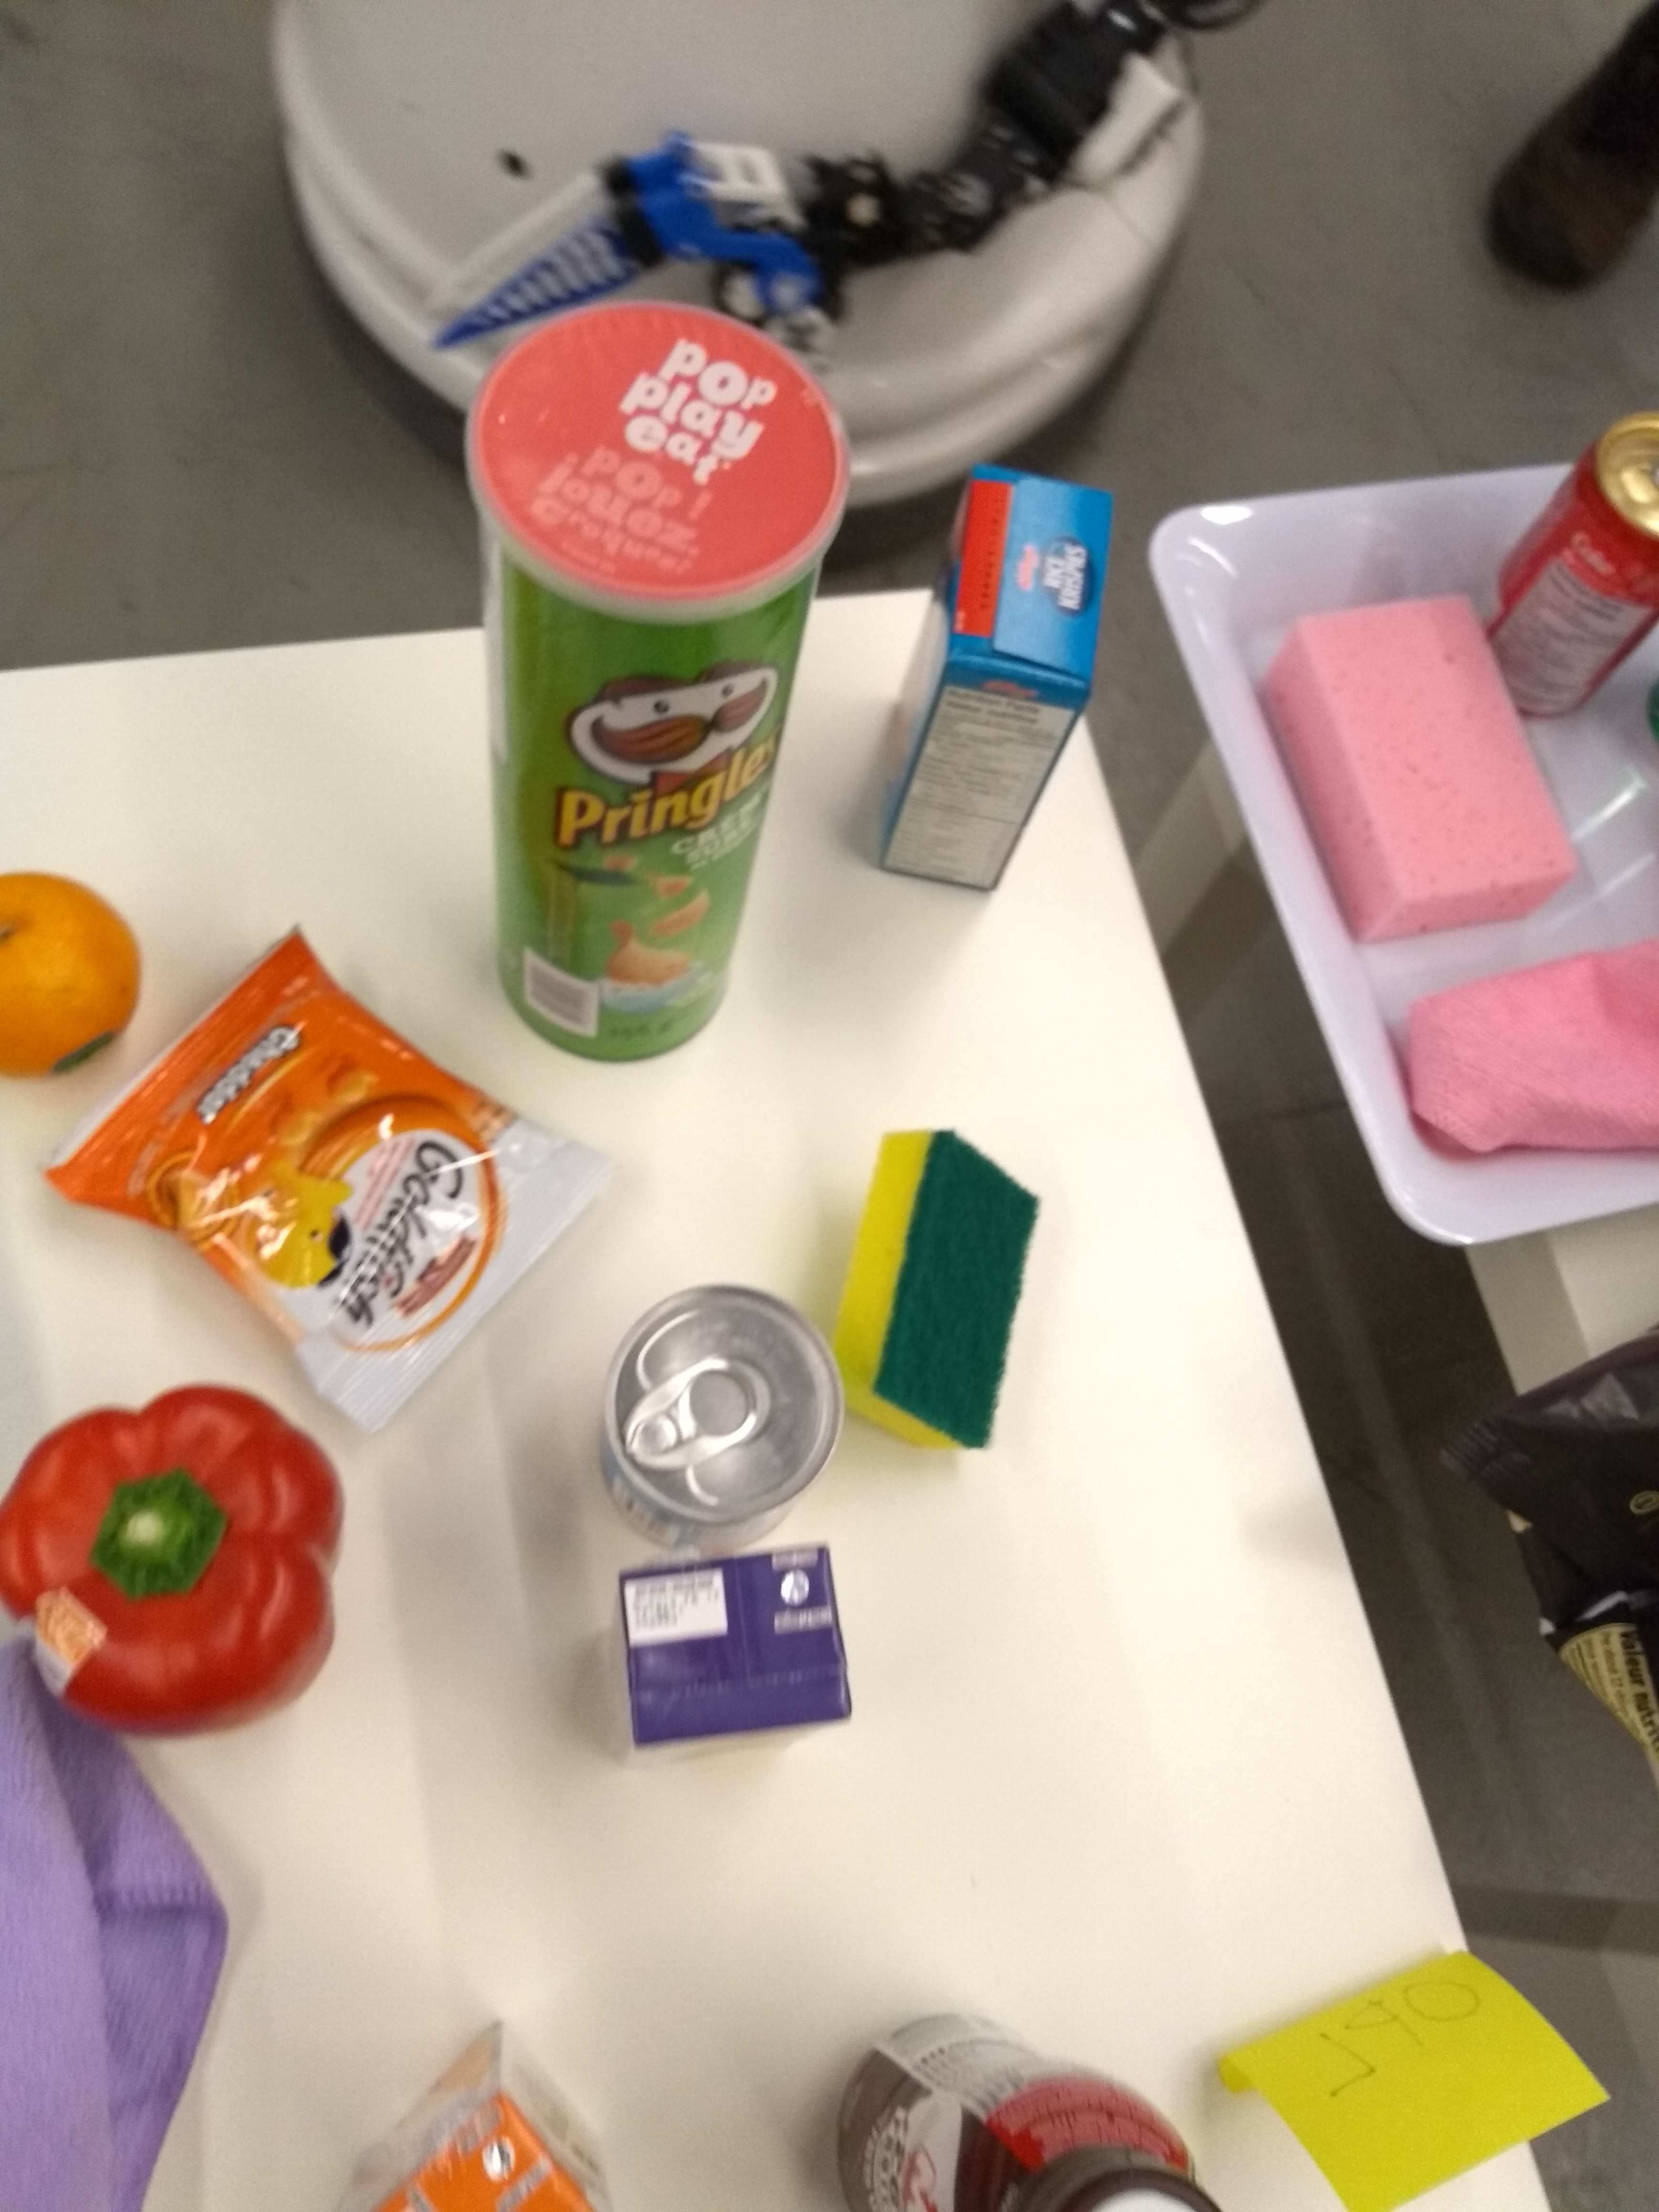cereal: (880, 462, 1121, 895)
crackers: (78, 982, 568, 1399)
grape_juice: (605, 1541, 878, 1752)
orange: (0, 873, 157, 1096)
paprika: (0, 1374, 368, 1743)
pringles: (446, 294, 817, 1064)
sausages: (589, 1282, 842, 1534)
scrubby: (826, 1116, 1049, 1467)
